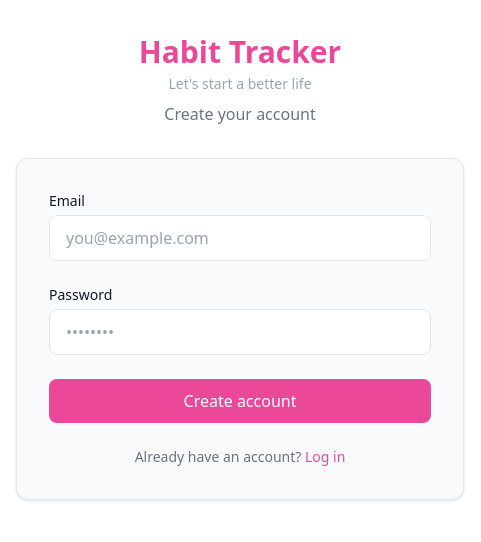
Test: RegisterPage › shows validation errors on empty submission
Click the button "Create account".
click(240, 401)  # box [49, 379, 431, 423]
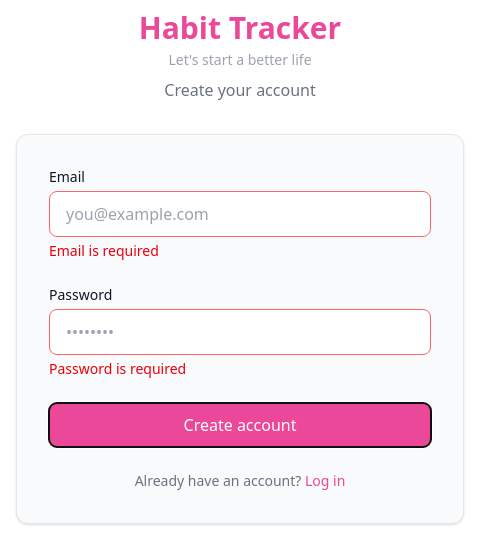
Expected: the text "Email is required" is shown, [49, 241, 159, 260]
Expected: the text "Password is required" is shown, [49, 359, 186, 378]
